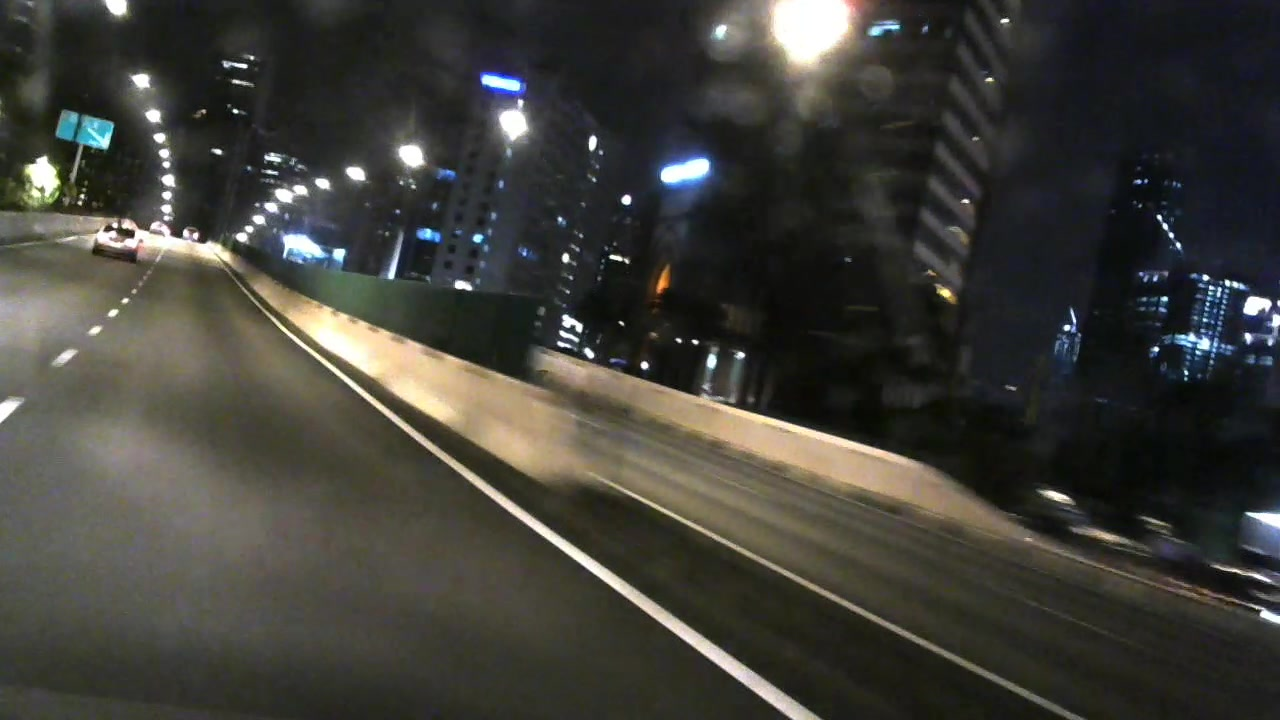Car: (92, 217, 143, 265), (178, 219, 208, 248), (147, 219, 170, 237)
